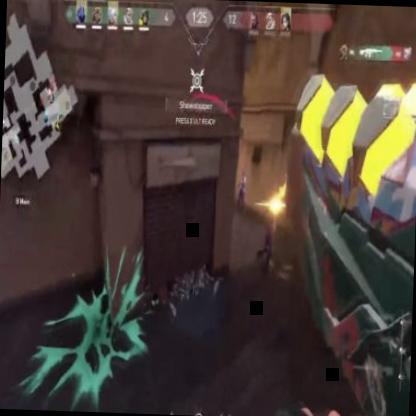enemy: (258, 201, 278, 271), (235, 169, 249, 214)
enemy_head: (240, 170, 244, 178)
